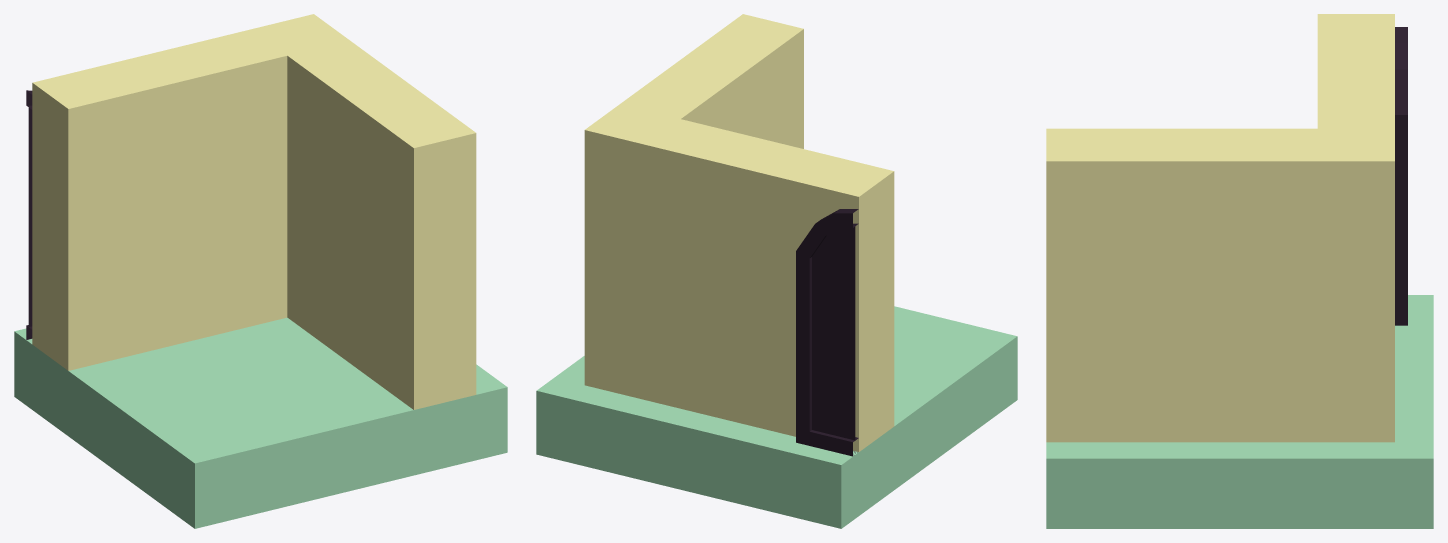
Rendered from DoorLeft.fbx.
3 renders of one model, left to right at view 1: azimuth 30°, elevation 25°; view 2: azimuth 150°, elevation 25°; view 3: azimuth 270°, elevation 25°, orthographic. The views are drawn at different scales.
Visible parts, largest first — view 1: DoorLeft; view 2: DoorLeft; view 3: DoorLeft.
Boxes of the visible parts, x1,y1,x2,y2 form: DoorLeft: (14,14,507,528); DoorLeft: (536,14,1017,528); DoorLeft: (1046,14,1433,528).
Size of the model in its own units: 200 by 200 by 200.
